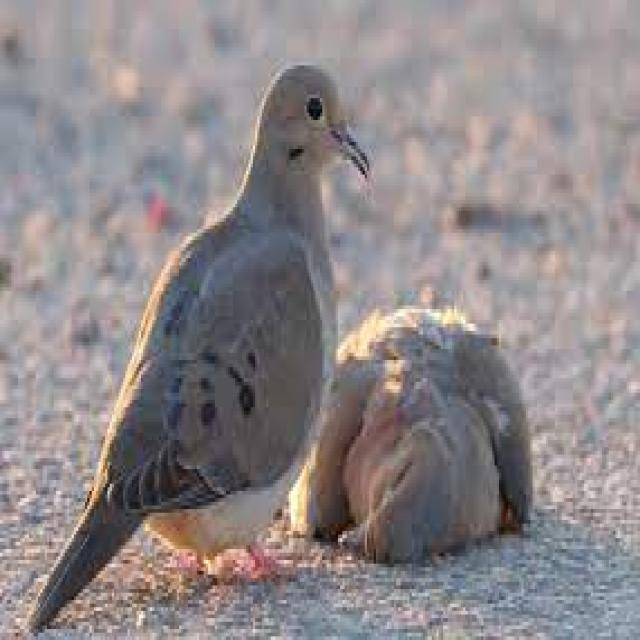bird: (0, 43, 387, 640), (276, 286, 547, 570)
